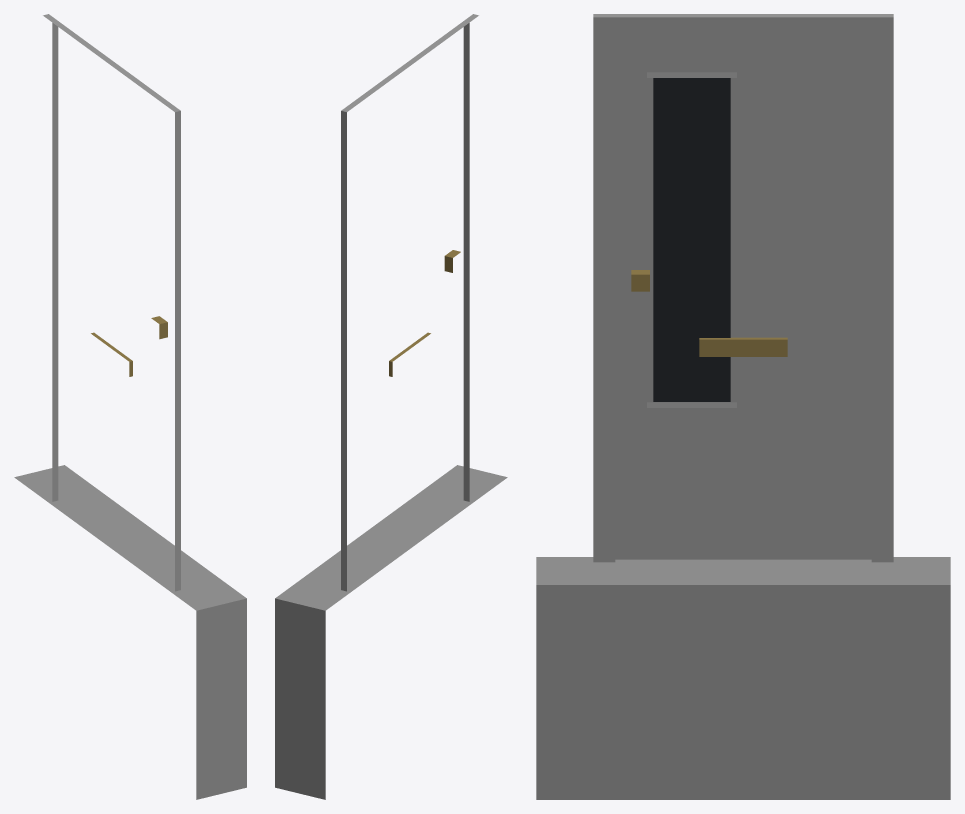
Rendered from SM_Prop_door_modern_0.glb.
The picture shows the model from 3 angles, left to right: view 1: azimuth 30°, elevation 25°; view 2: azimuth 150°, elevation 25°; view 3: azimuth 270°, elevation 25°; orthographic projection. The views are drawn at different scales.
Visible parts, largest first — view 1: SM_Prop_door_modern_0; view 2: SM_Prop_door_modern_0; view 3: SM_Prop_door_modern_0.
Part boxes in pixels (x1,y1,x2,y2): SM_Prop_door_modern_0: (14,14,246,799); SM_Prop_door_modern_0: (275,14,507,799); SM_Prop_door_modern_0: (536,14,950,799).
Bounding box in the file's own units: 0.21 × 2.65 × 1.31.
